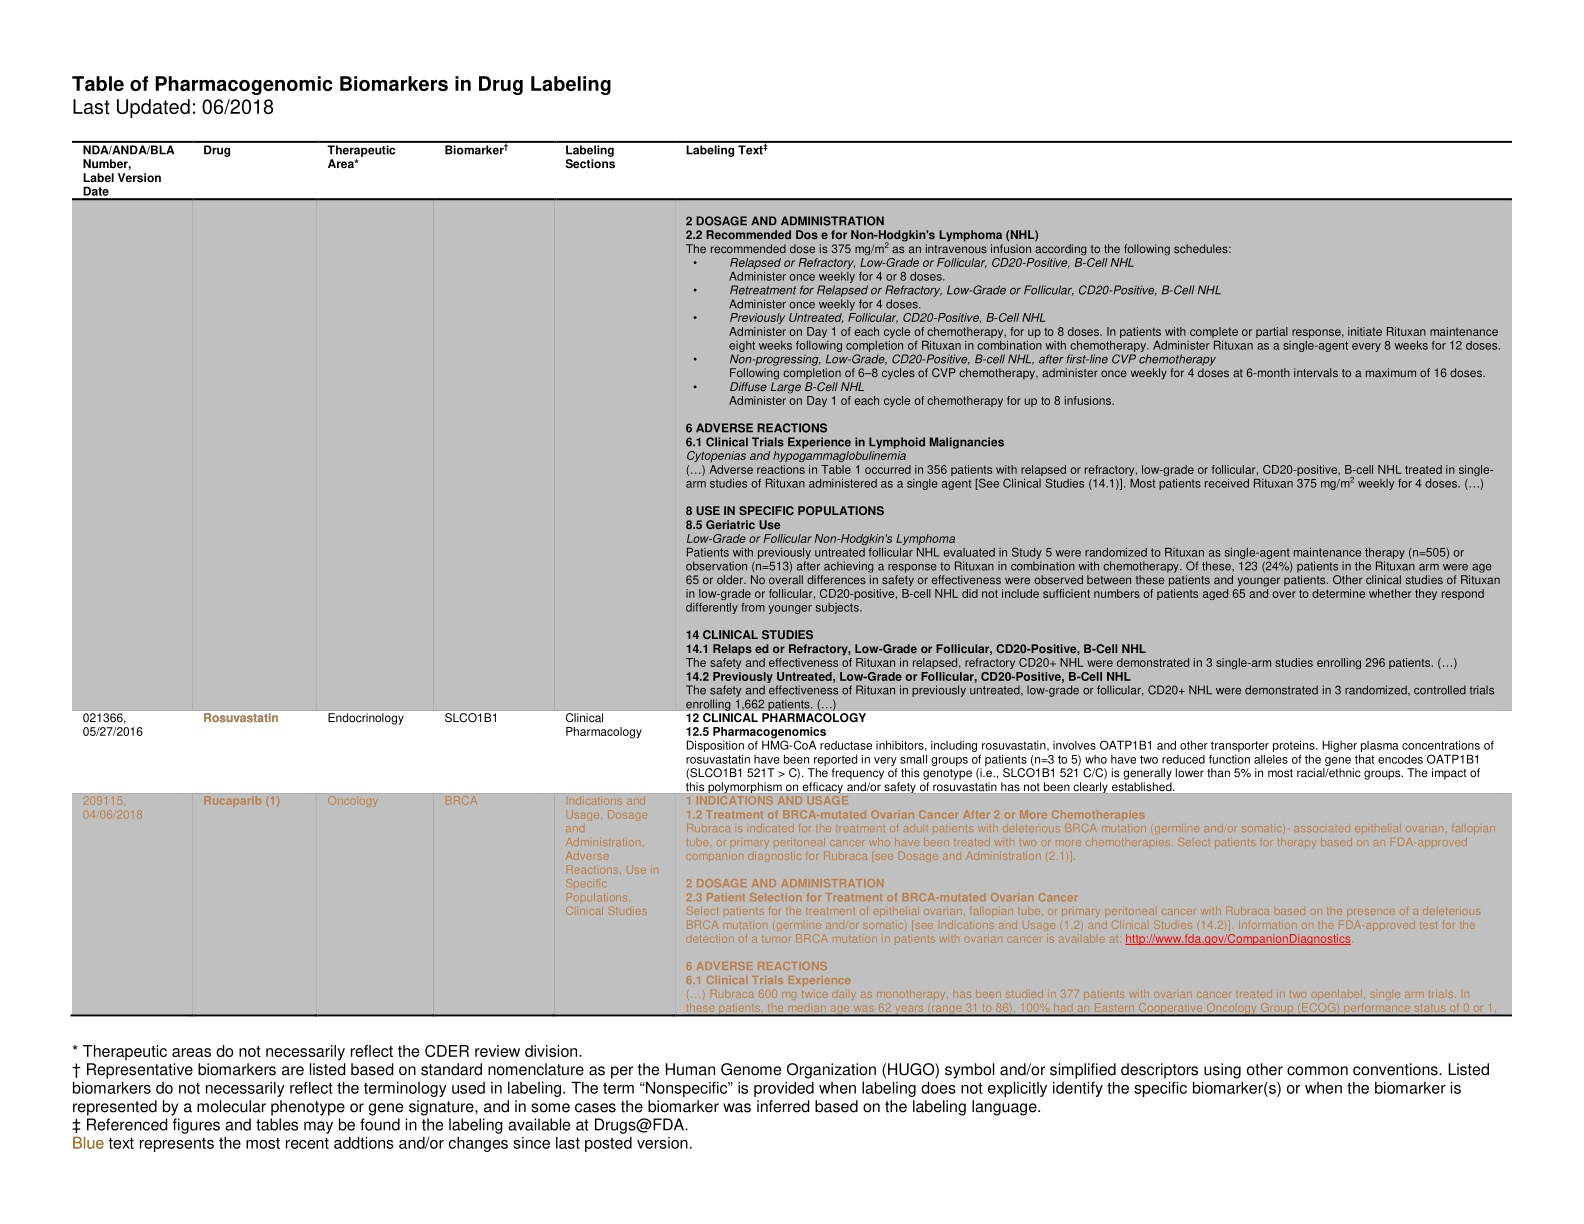partial_lined: (72, 140, 1512, 1018)
